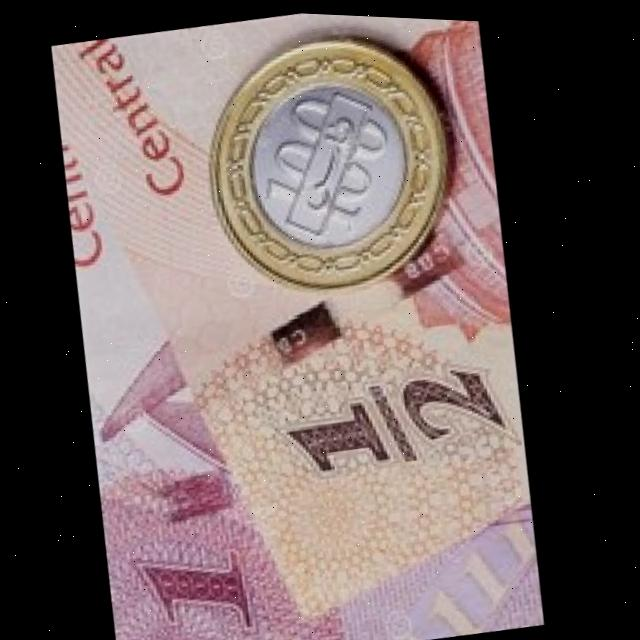banknote: (17, 2, 583, 640), (24, 2, 575, 640)
